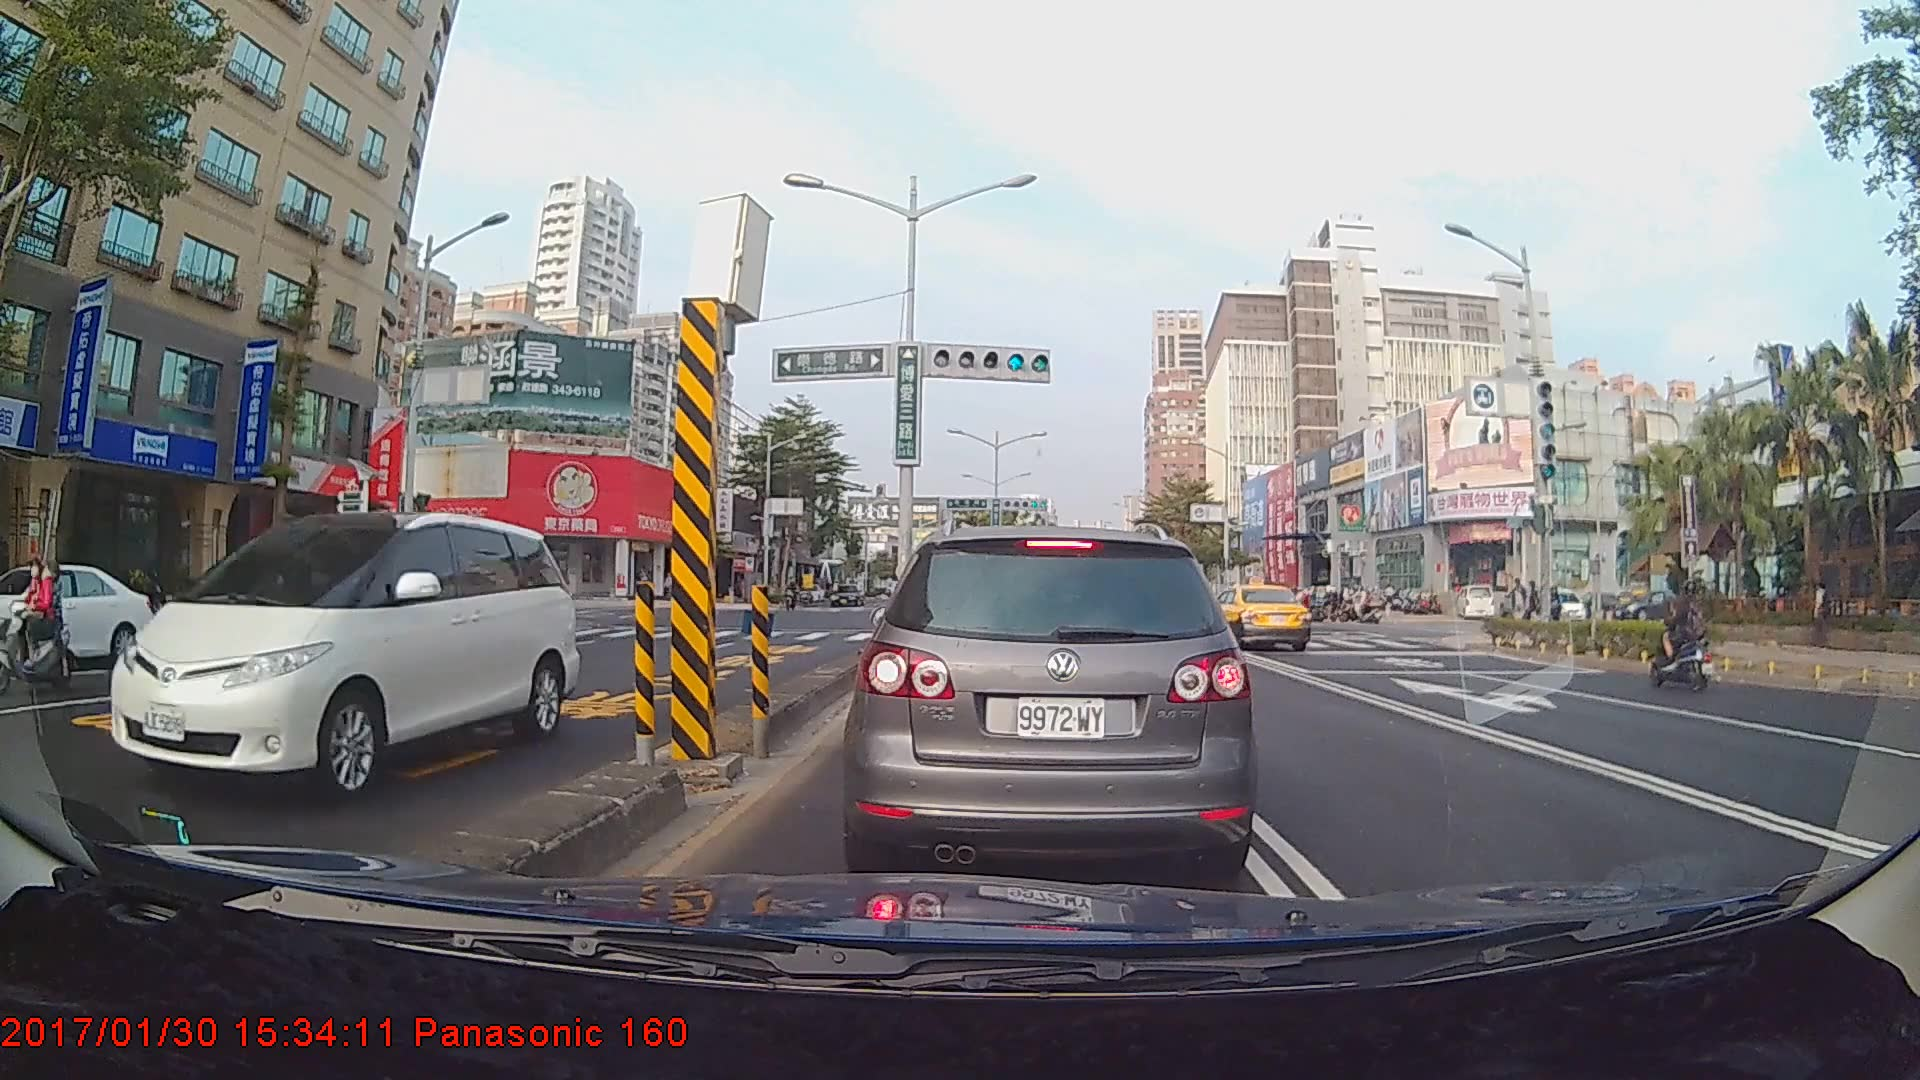pedestrian: (1810, 579, 1835, 648)
rider: (1, 557, 77, 695), (1646, 579, 1724, 696)
vehicle: (855, 520, 1247, 882), (110, 508, 578, 804), (0, 561, 158, 671), (1199, 581, 1311, 654)
